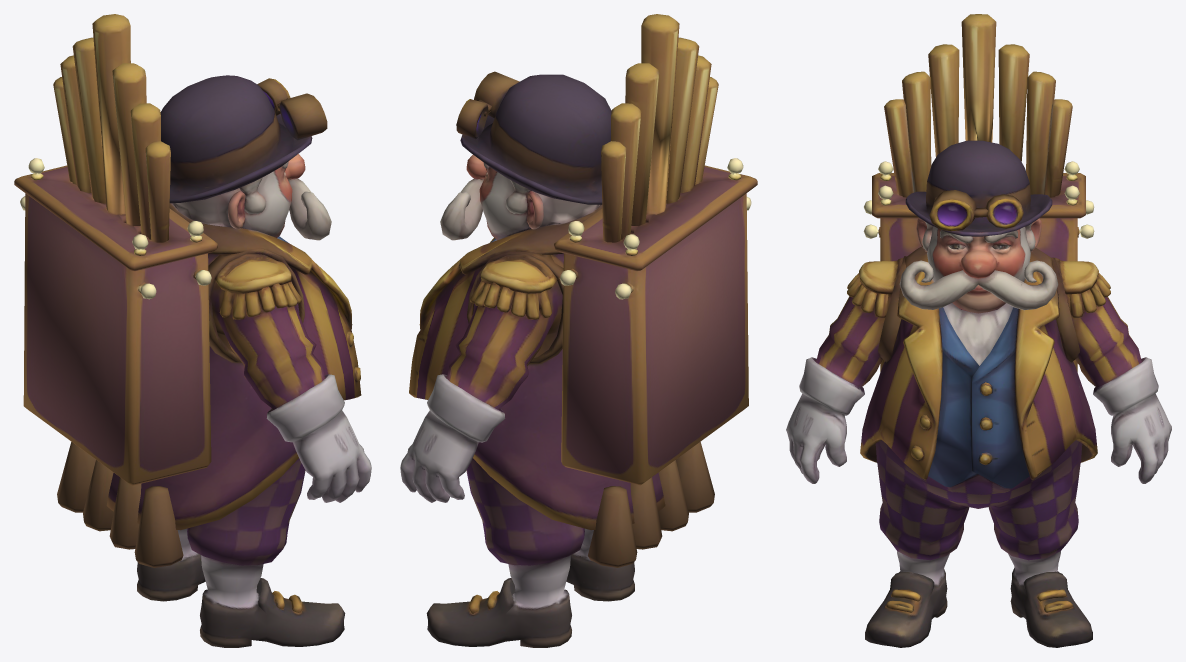
File: engineer_calliope_tripo.glb
The picture shows the model from 3 angles, left to right: view 1: azimuth 30°, elevation 25°; view 2: azimuth 150°, elevation 25°; view 3: azimuth 270°, elevation 25°; orthographic projection. The views are drawn at different scales.
Visible parts, largest first — view 1: tripo_node_a1d9bb58-e068-4cfd-b240-f44757771066; view 2: tripo_node_a1d9bb58-e068-4cfd-b240-f44757771066; view 3: tripo_node_a1d9bb58-e068-4cfd-b240-f44757771066.
Boxes of the visible parts, x1,y1,x2,y2 form: tripo_node_a1d9bb58-e068-4cfd-b240-f44757771066: [14, 14, 371, 647]; tripo_node_a1d9bb58-e068-4cfd-b240-f44757771066: [400, 14, 757, 647]; tripo_node_a1d9bb58-e068-4cfd-b240-f44757771066: [786, 14, 1171, 647].
Bounding box in the file's own units: 0.4496 × 0.998 × 0.6309.
1 material, 1 textured.
